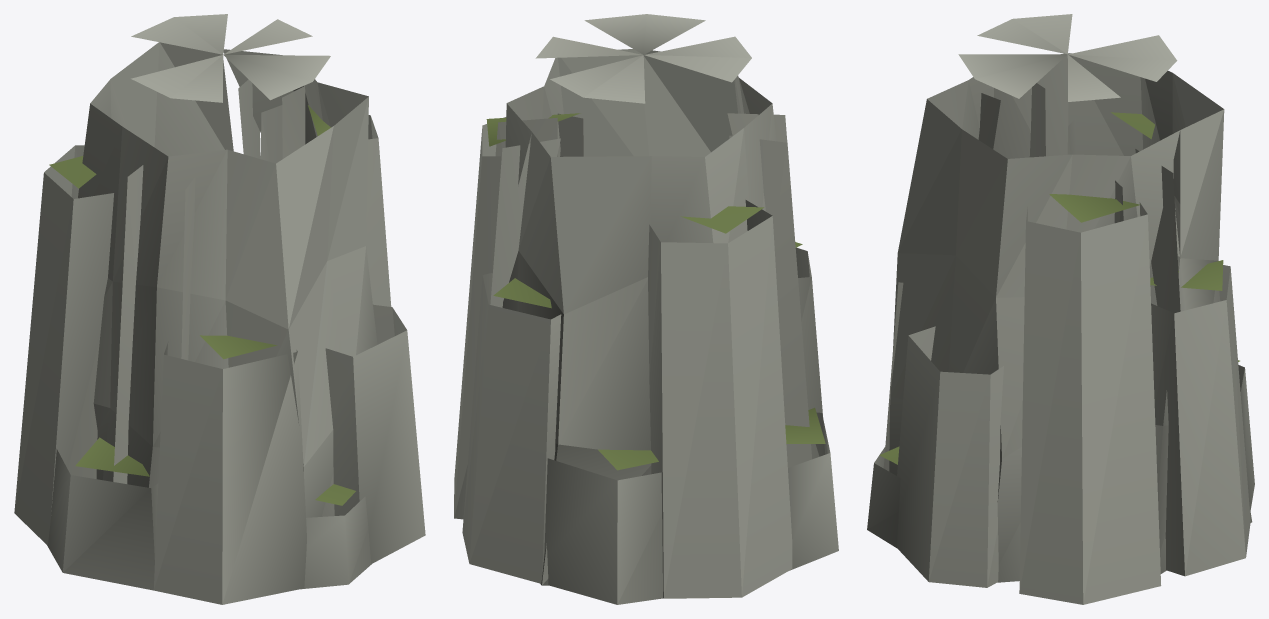
The model's file is karst_big.lod.glb.
The picture shows the model from 3 angles, left to right: view 1: azimuth 30°, elevation 25°; view 2: azimuth 150°, elevation 25°; view 3: azimuth 270°, elevation 25°; orthographic projection.
Parts seen in each view (by area): view 1: karst_big; view 2: karst_big; view 3: karst_big.
Boxes of the visible parts, x1=… form: karst_big: x1=14, y1=14, x2=425, y2=604; karst_big: x1=454, y1=14, x2=838, y2=604; karst_big: x1=867, y1=14, x2=1254, y2=604.
Bounding box in the file's own units: 29.39 × 36.29 × 27.54.
